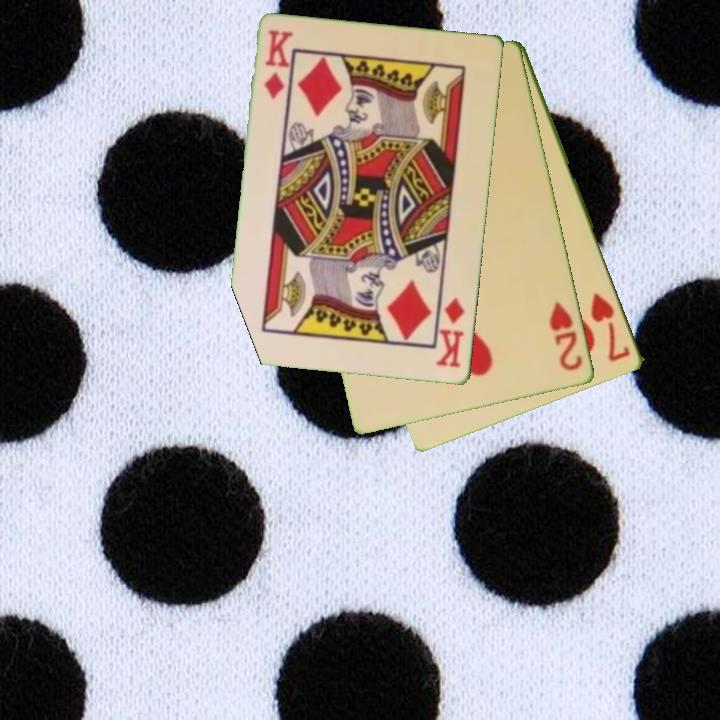2h: (546, 298, 586, 374)
7h: (587, 289, 634, 365)
Kd: (433, 294, 468, 371), (261, 26, 295, 103)
